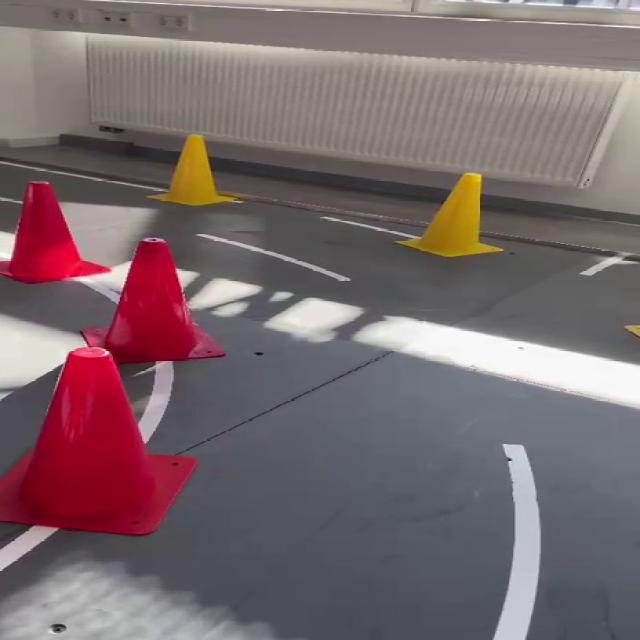Cone-red: (0, 239, 223, 535), (0, 182, 109, 283)
Cones-yellow: (396, 173, 501, 257), (149, 135, 240, 205)
